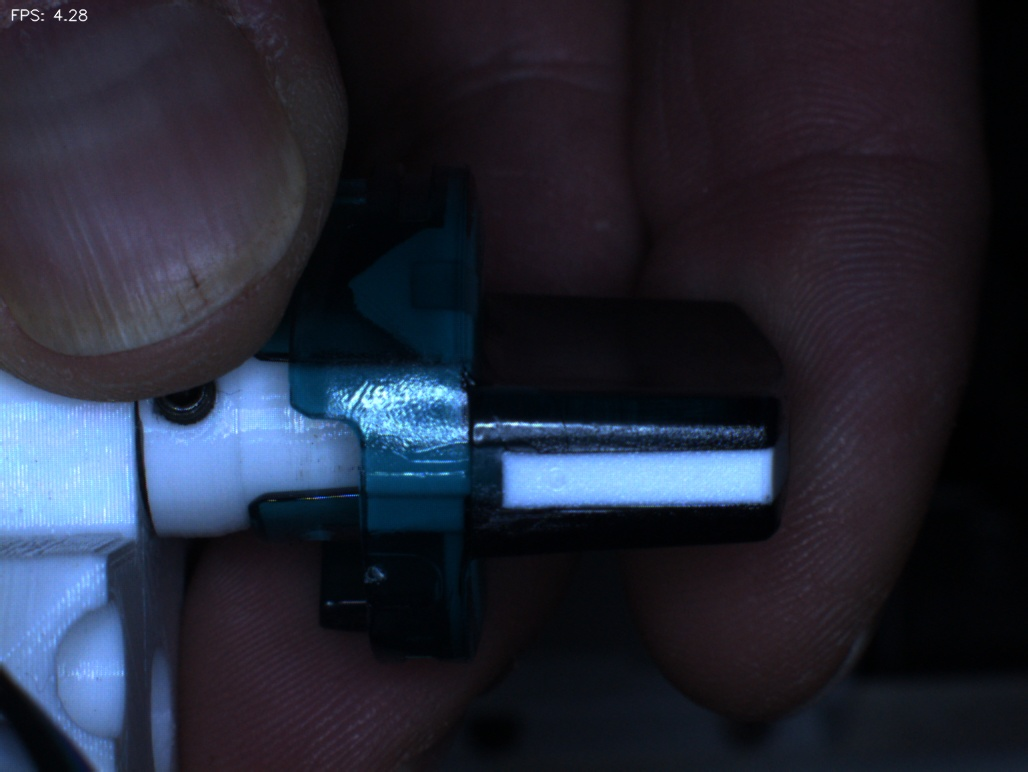DentOk: (321, 252, 402, 338)
